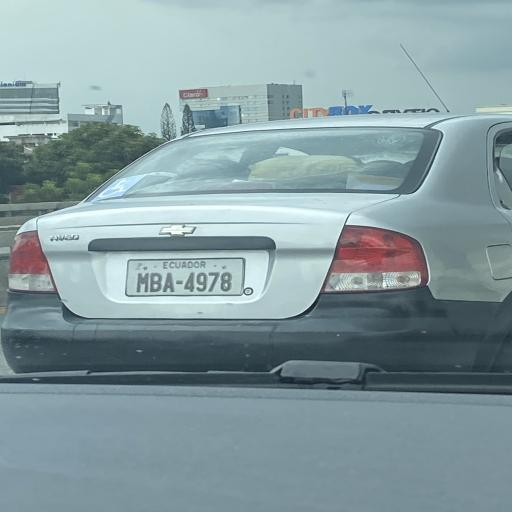license_plate: (135, 270, 150, 294), (163, 272, 176, 294), (150, 271, 162, 294), (196, 271, 208, 293), (208, 271, 220, 293), (185, 272, 196, 293), (221, 272, 232, 292)
